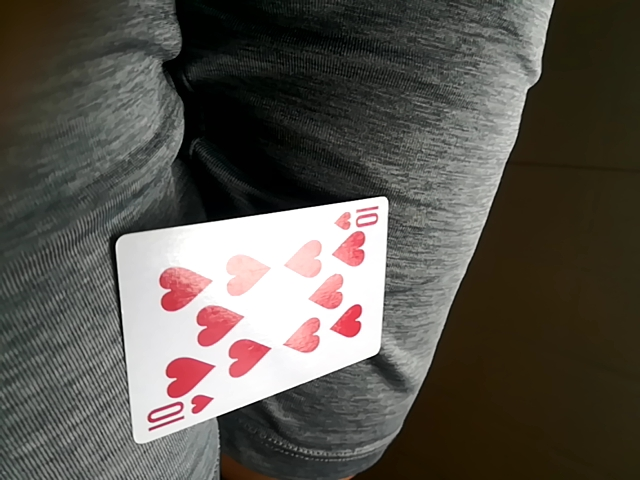hx 10: (115, 192, 390, 438)
